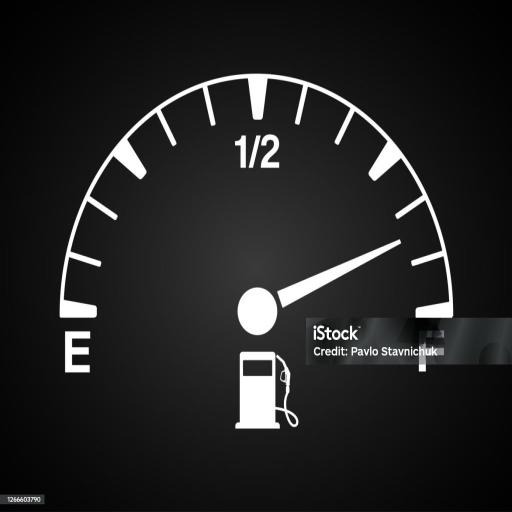empty: (64, 331, 94, 372)
fuel_icon: (229, 352, 299, 432)
full: (419, 328, 449, 378)
guage_area: (54, 65, 457, 440)
needle_center: (232, 283, 296, 337)
needle_tip: (388, 232, 401, 252)
